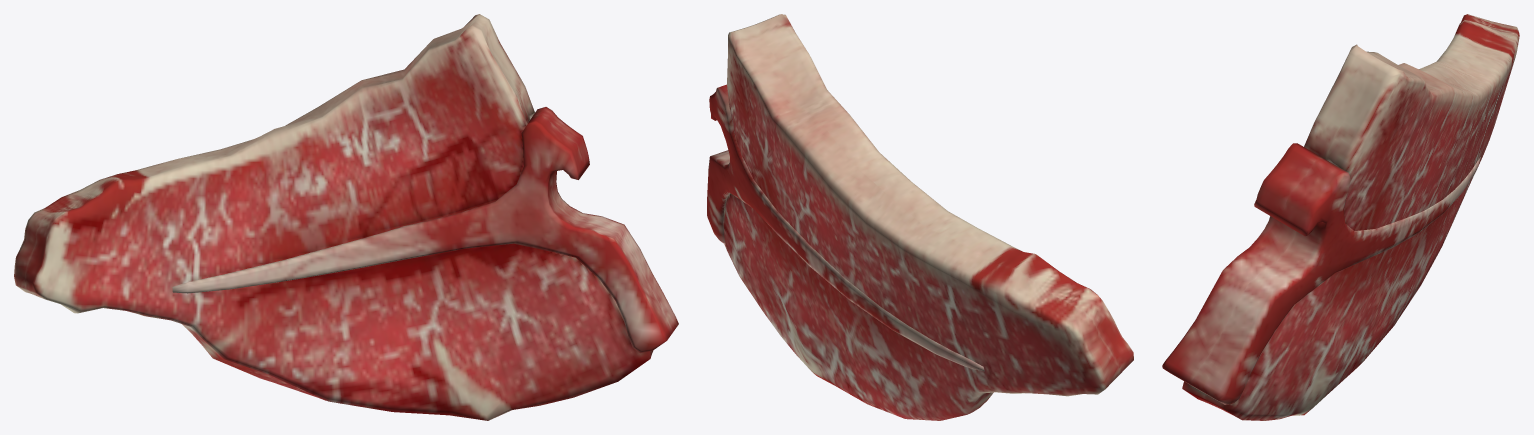
Rendered from meat_steak.3311e66f2d.glb.
The picture shows the model from 3 angles, left to right: view 1: azimuth 30°, elevation 25°; view 2: azimuth 150°, elevation 25°; view 3: azimuth 270°, elevation 25°; orthographic projection. The views are drawn at different scales.
Visible parts, largest first — view 1: meat_steak; view 2: meat_steak; view 3: meat_steak.
Boxes of the visible parts, x1,y1,x2,y2 form: meat_steak: (14, 14, 678, 420); meat_steak: (707, 14, 1133, 420); meat_steak: (1162, 14, 1519, 420).
Size of the model in its own units: 0.24 by 0.1598 by 0.1385.
Materials: 1 (1 with a texture image).
